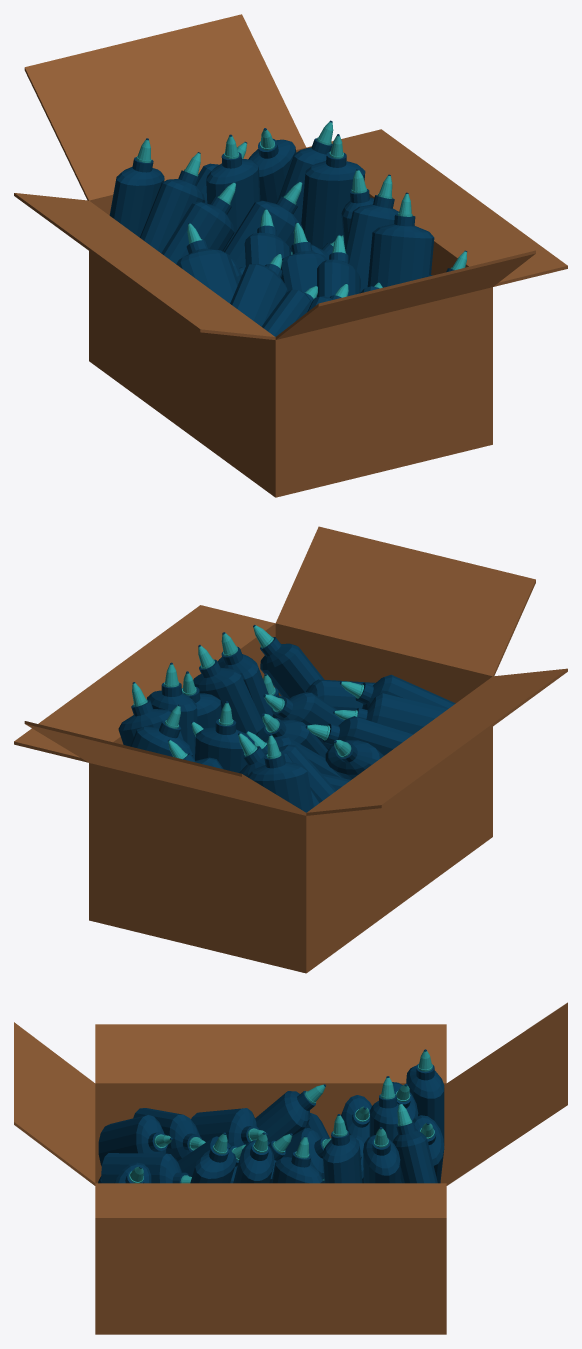
File: caixa de papelao com cola textura FINAL.fbx
3 renders of one model, top to bottom at view 1: azimuth 30°, elevation 25°; view 2: azimuth 150°, elevation 25°; view 3: azimuth 270°, elevation 25°, orthographic. The views are drawn at different scales.
Parts seen in each view (by area): view 1: Cube; view 2: Cube; view 3: Cube.
Boxes of the visible parts, x1,y1,x2,y2 form: Cube: [14, 14, 567, 497]; Cube: [14, 526, 567, 973]; Cube: [14, 1002, 567, 1334].
Size of the model in its own units: 1367 by 877 by 1894.
